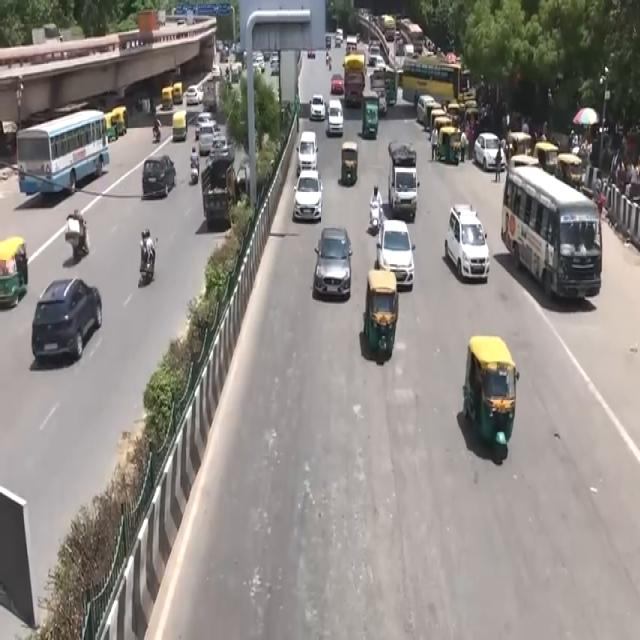BUS: (504, 164, 605, 308), (18, 109, 113, 203), (402, 55, 460, 106)
TRUCK: (389, 140, 422, 220)
